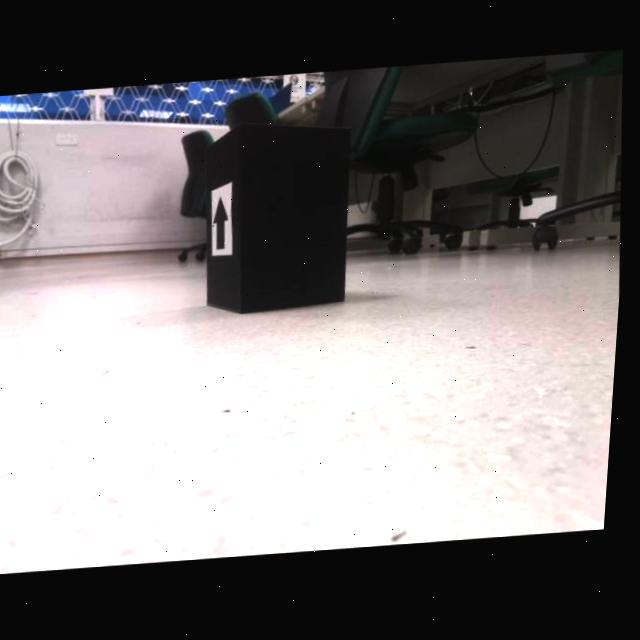UP: (217, 197, 233, 252)
